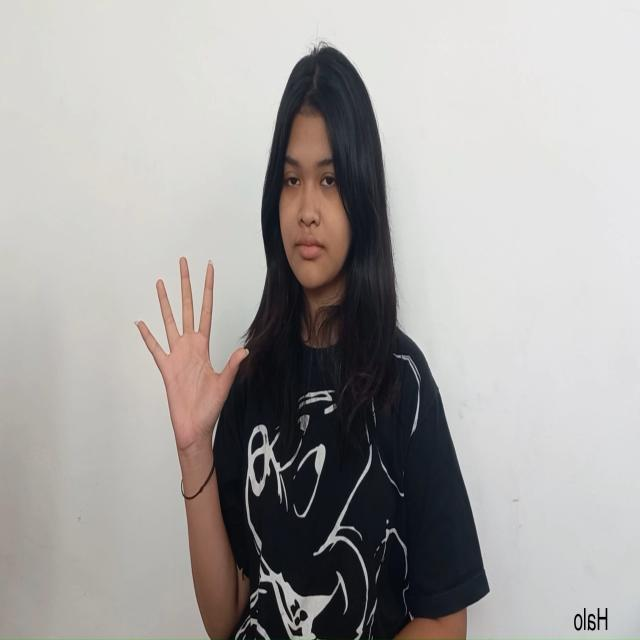Halo -BISINDO-: (134, 255, 250, 459)
